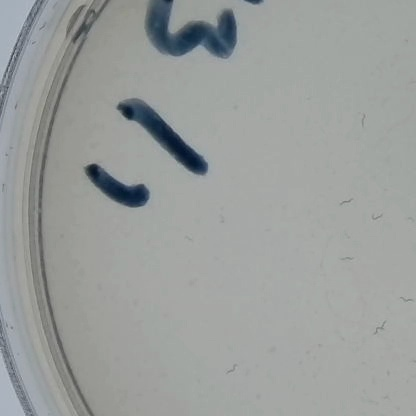worm: (332, 184, 367, 213), (361, 201, 391, 228), (370, 315, 394, 338), (225, 354, 243, 380), (395, 286, 416, 307), (340, 250, 361, 269), (355, 108, 370, 133), (179, 232, 197, 249), (404, 212, 416, 228)
